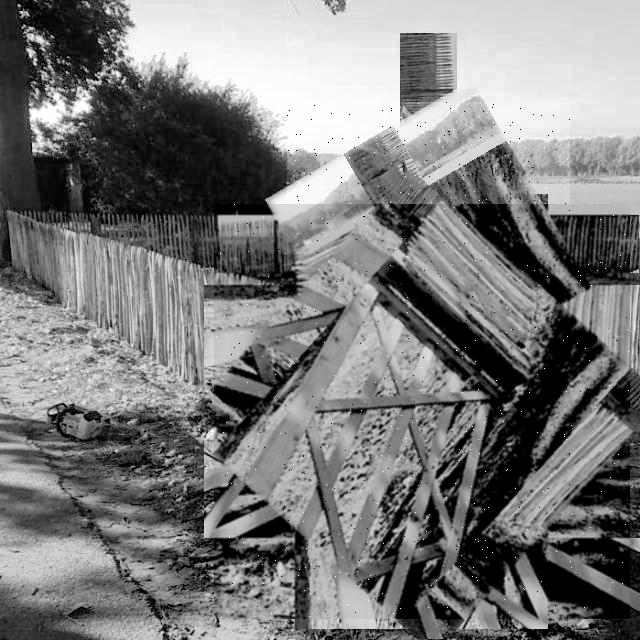fences: (214, 204, 630, 619), (287, 102, 570, 386)
